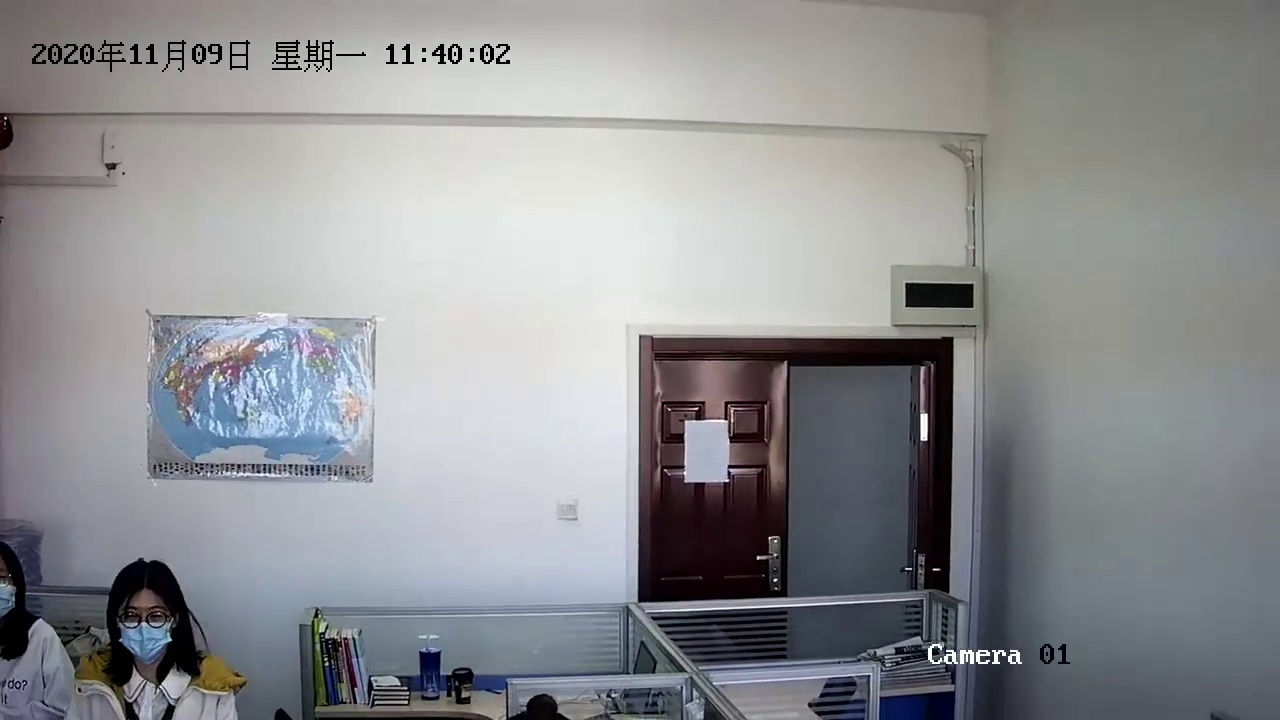mask: (110, 572, 183, 668)
